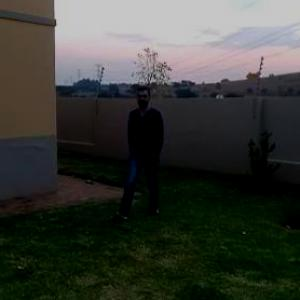follow: (123, 86, 165, 210)
